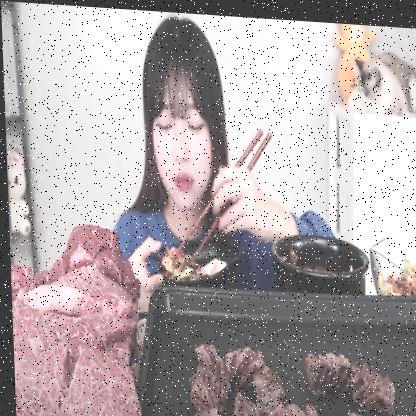streamer: (102, 10, 335, 287)
